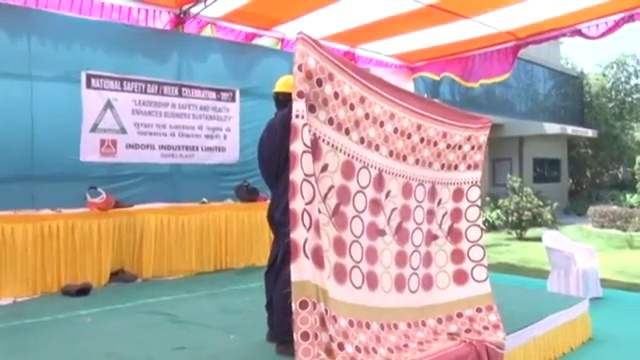helmet: (273, 73, 293, 95)
helmet_on: (271, 72, 293, 115)
person: (258, 73, 298, 357)
